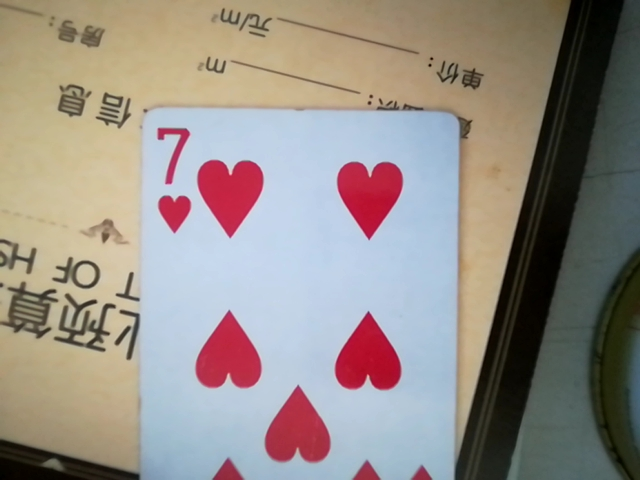hx 7: (131, 105, 458, 480)
